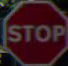Stop: (3, 2, 62, 59)
